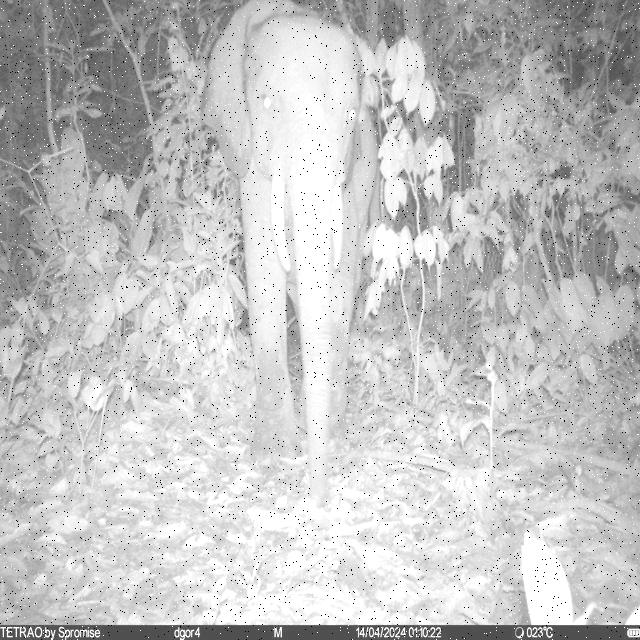ear: (202, 2, 290, 180)
elephant: (202, 1, 384, 510)
tusk: (270, 175, 291, 275), (332, 185, 346, 272)
